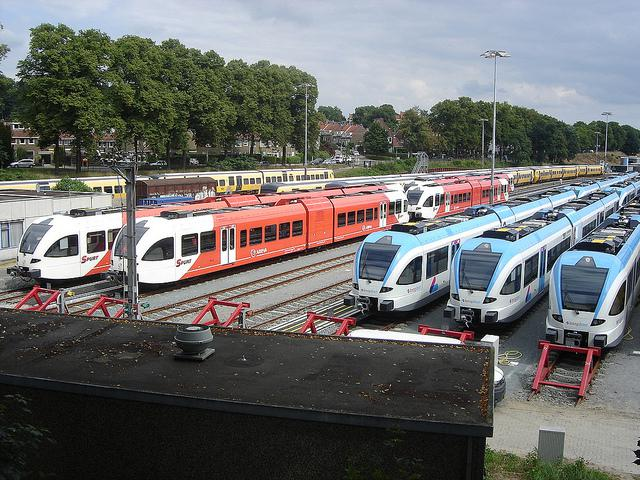Train: (339, 172, 610, 319), (443, 171, 639, 329), (113, 186, 411, 288), (544, 199, 640, 349), (20, 211, 126, 285), (406, 177, 509, 223), (211, 171, 336, 195)
